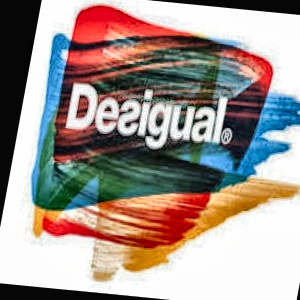desigual: (211, 48, 269, 131)
